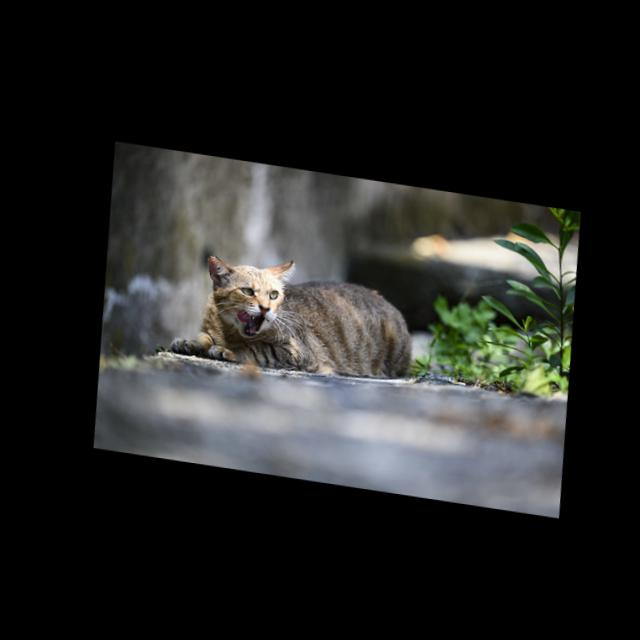animals: (160, 240, 418, 385)
